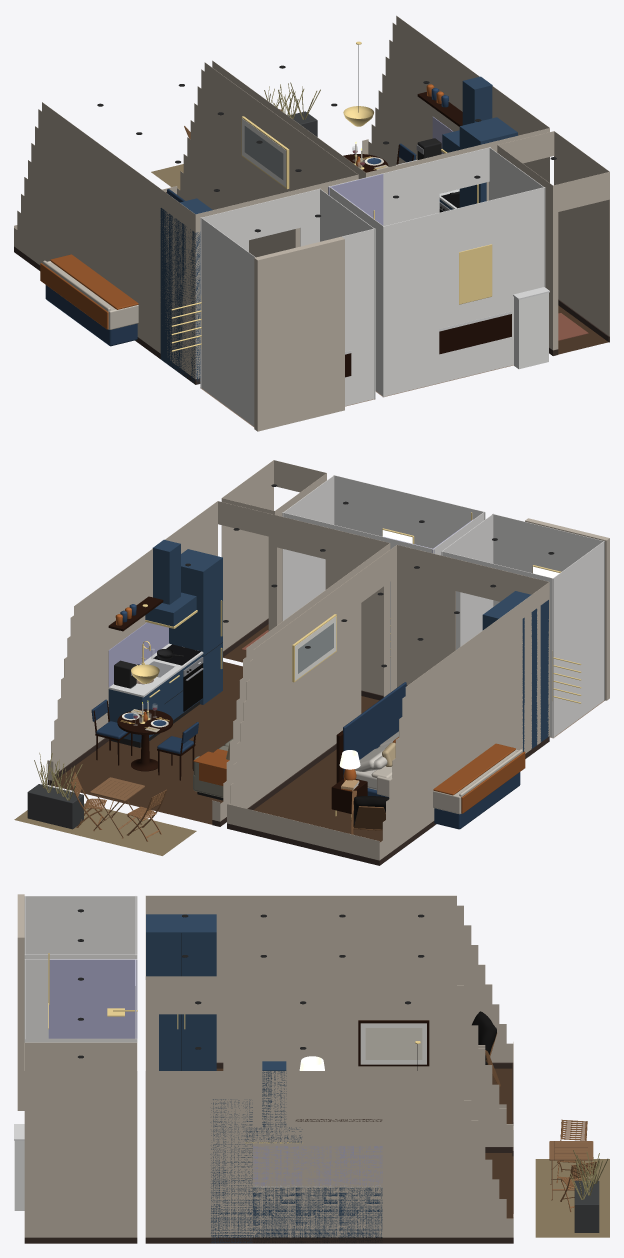
The model's file is unit-2.A-lisboa.glb.
3 views of the same model, one above another, from view 1: azimuth 30°, elevation 25°; view 2: azimuth 150°, elevation 25°; view 3: azimuth 270°, elevation 25° (orthographic). The views are drawn at different scales.
Parts seen in each view (by area): view 1: int-wall, int-bathWall, int-joineryTall, int-metal, int-bedThrow, int-wood, int-whiteGloss, int-joinery, int-headboard, int-showerWall, int-duvet, int-art:6:2 (+5 smaller); view 2: int-wall, int-bathWall, int-floor, int-joineryTall, int-joinery, int-headboard, int-deck, int-wood, int-skirting, int-bedThrow, int-outdoor, int-metal (+17 smaller); view 3: int-wall, int-joineryTall, int-bathWall, int-showerWall, int-joinery, int-deck, int-skirting, int-splash, int-art:4:1, int-floor, int-outdoor, int-model-outdoor_table_chair_set_01-1 (+8 smaller).
Boxes of the visible parts, bbox=[...] form: int-wall: bbox=[14, 15, 609, 431]; int-bathWall: bbox=[200, 147, 545, 426]; int-joineryTall: bbox=[160, 117, 517, 384]; int-metal: bbox=[171, 41, 492, 351]; int-bedThrow: bbox=[40, 254, 138, 329]; int-wood: bbox=[166, 92, 511, 377]; int-whiteGloss: bbox=[514, 292, 548, 369]; int-joinery: bbox=[439, 76, 492, 209]; int-headboard: bbox=[45, 189, 184, 346]; int-showerWall: bbox=[328, 174, 383, 225]; int-duvet: bbox=[43, 260, 138, 329]; int-art:6:2: bbox=[244, 126, 283, 179]; int-wall: bbox=[47, 460, 609, 860]; int-bathWall: bbox=[282, 475, 604, 737]; int-floor: bbox=[54, 661, 382, 842]; int-joineryTall: bbox=[169, 549, 548, 751]; int-joinery: bbox=[108, 539, 202, 742]; int-headboard: bbox=[343, 682, 520, 829]; int-deck: bbox=[14, 803, 196, 855]; int-wood: bbox=[108, 596, 407, 813]; int-skirting: bbox=[47, 618, 549, 865]; int-bedThrow: bbox=[433, 743, 525, 813]; int-outdoor: bbox=[27, 784, 83, 829]; int-metal: bbox=[131, 512, 581, 819]; int-wall: bbox=[17, 894, 513, 1237]; int-joineryTall: bbox=[146, 914, 252, 1243]; int-bathWall: bbox=[24, 896, 137, 1042]; int-showerWall: bbox=[48, 959, 137, 1038]; int-joinery: bbox=[246, 1061, 382, 1237]; int-deck: bbox=[535, 1159, 609, 1237]; int-skirting: bbox=[24, 1062, 513, 1243]; int-splash: bbox=[253, 1146, 382, 1185]; int-art:4:1: bbox=[365, 1028, 422, 1059]; int-floor: bbox=[216, 1068, 513, 1218]; int-outdoor: bbox=[574, 1180, 599, 1232]; int-model-outdoor_table_chair_set_01-1: bbox=[549, 1141, 593, 1200].
Bounding box in the file's own units: 6.37 × 2.8 × 8.41.
